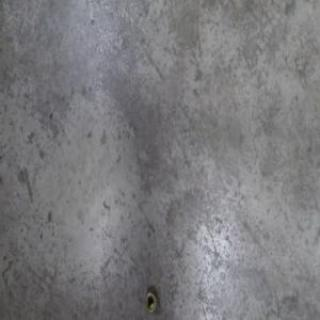Nuttrack_idkeyframe: (143, 289, 156, 313)
